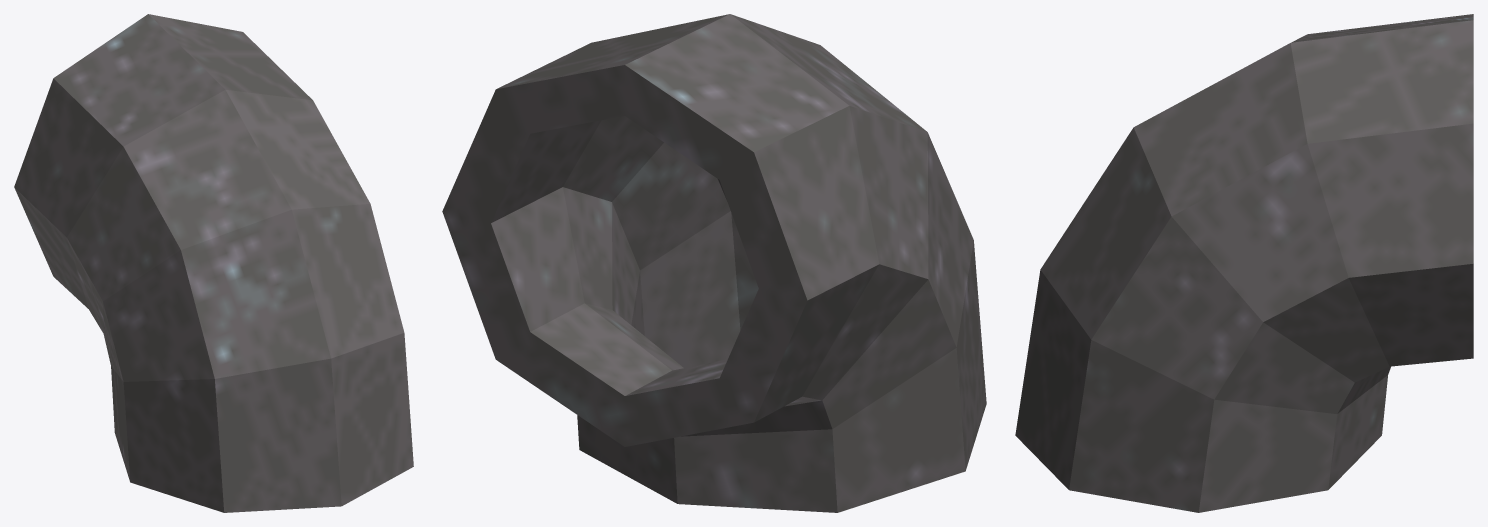
File: Metal_Pipe_90d.obj
The picture shows the model from 3 angles, left to right: view 1: azimuth 30°, elevation 25°; view 2: azimuth 150°, elevation 25°; view 3: azimuth 270°, elevation 25°; orthographic projection. The views are drawn at different scales.
Parts seen in each view (by area): view 1: rura90deg; view 2: rura90deg; view 3: rura90deg.
Boxes of the visible parts, x1=… form: rura90deg: x1=14, y1=14, x2=413, y2=512; rura90deg: x1=442, y1=14, x2=986, y2=512; rura90deg: x1=1015, y1=14, x2=1473, y2=512.
Bounding box in the file's own units: 0.3987 × 0.4983 × 0.4983.
Materials: 1 (1 with a texture image).
